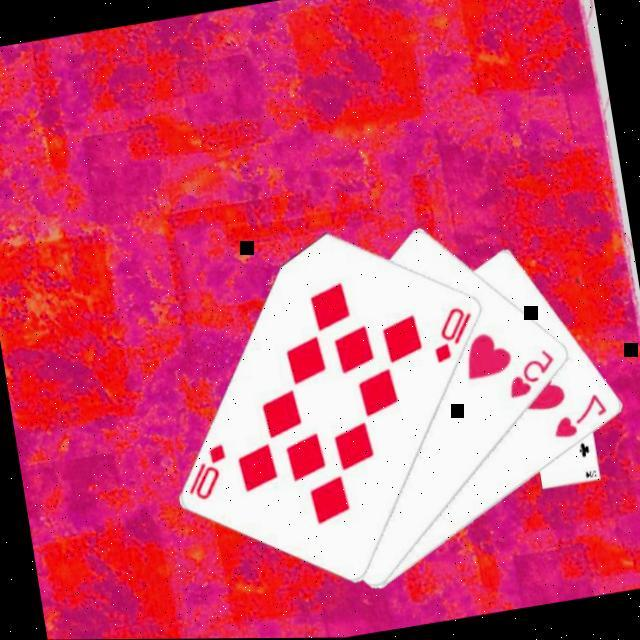10D: (181, 442, 237, 507), (427, 304, 482, 368)
5H: (502, 347, 564, 405)
7H: (547, 392, 615, 446)
